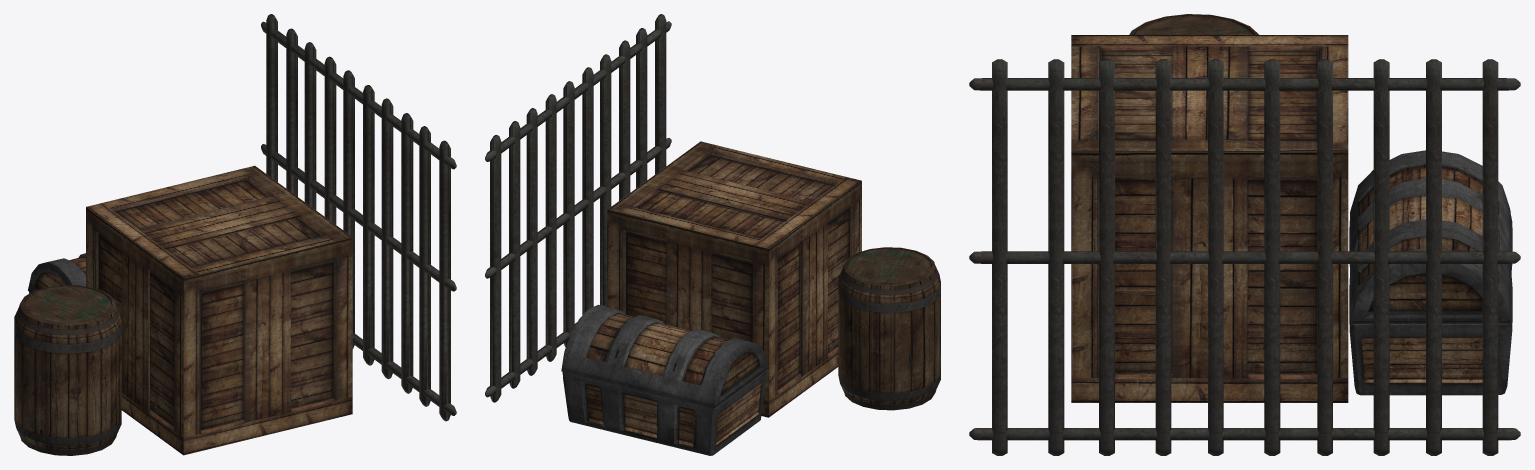
Rendered from AllAssets.FBX.
3 views of the same model, side by side, from view 1: azimuth 30°, elevation 25°; view 2: azimuth 150°, elevation 25°; view 3: azimuth 270°, elevation 25° (orthographic). The views are drawn at different scales.
Parts seen in each view (by area): view 1: crate, fence001, barrel, chest; view 2: crate, fence001, chest, barrel; view 3: fence001, crate, chest, barrel.
Part boxes in pixels (left/top/right/bottom): crate: left=86, top=165, right=352, bottom=455; fence001: left=261, top=14, right=456, bottom=421; barrel: left=14, top=285, right=121, bottom=455; chest: left=28, top=253, right=85, bottom=293; crate: left=607, top=141, right=861, bottom=417; fence001: left=485, top=14, right=671, bottom=402; chest: left=561, top=304, right=768, bottom=455; barrel: left=838, top=247, right=940, bottom=410; fence001: left=969, top=59, right=1520, bottom=455; crate: left=1071, top=35, right=1348, bottom=402; chest: left=1349, top=150, right=1512, bottom=395; barrel: left=1129, top=14, right=1258, bottom=34.
Size of the model in its own units: 197 by 147 by 185.
1 material, 1 textured.
